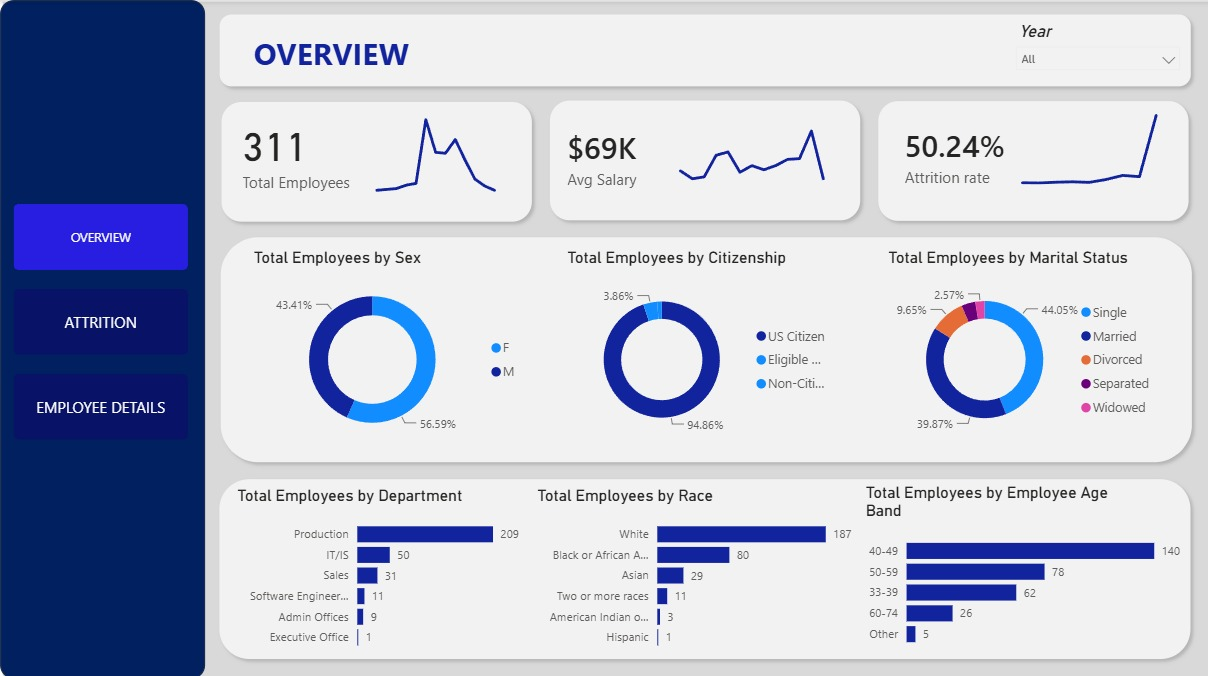

The page's visual inventory and layout, read from the dashboard file:
{"tool":"powerbi","page":{"name":"OVERVIEW","canvas":[1280,720],"ordinal":0},"visuals":[{"type":"cardVisual","fields":{"Data":["_measures.Total Employees"]},"box":[240.2,127.2,151.1,81.1],"z":0},{"type":"lineChart","fields":{"Y":["_measures.Total Employees"],"Category":["Date Table.Year"]},"box":[373.8,97,186.1,111.3],"z":1000},{"type":"cardVisual","fields":{"Data":["_measures.Avg Salary"]},"box":[596.5,114.5,192.5,108.2],"z":2000},{"type":"lineChart","fields":{"Y":["_measures.Avg Salary"],"Category":["Date Table.Year"]},"box":[693.5,103.4,219.5,111.3],"z":3000},{"type":"cardVisual","fields":{"Data":["_measures.Attrition rate"]},"box":[954.4,105,154.3,125.7],"z":4000},{"type":"donutChart","fields":{"Y":["_measures.Total Employees"],"Category":["HRDataset.Sex"]},"box":[264,262.5,295.9,216.3],"z":5000},{"type":"donutChart","fields":{"Y":["_measures.Total Employees"],"Category":["HRDataset.CitizenDesc"]},"box":[596.5,262.5,295.9,216.3],"z":6000},{"type":"donutChart","fields":{"Y":["_measures.Total Employees"],"Category":["HRDataset.MaritalDesc"]},"box":[936.9,262.5,295.9,216.3],"z":7000},{"type":"barChart","fields":{"Y":["_measures.Total Employees"],"Category":["HRDataset.Department"]},"box":[246.5,515.4,343.6,182.9],"z":8000},{"type":"barChart","fields":{"Y":["_measures.Total Employees"],"Category":["HRDataset.RaceDesc"]},"box":[564.7,515.4,343.6,182.9],"z":9000},{"type":"barChart","fields":{"Y":["_measures.Total Employees"],"Category":["HRDataset.Employee Age Band"]},"box":[913,512.2,343.6,182.9],"z":10000},{"type":"slicer","fields":{"Values":["Date Table.Year"]},"box":[1067.3,17.5,194.1,84.3],"z":11000},{"type":"textbox","box":[264,28.6,326.1,52.5],"z":12000},{"type":"lineChart","fields":{"Y":["_measures.Attrition rate"],"Category":["Date Table.Year"]},"box":[1068.9,97,171.8,103.4],"z":13000},{"type":"pageNavigator","box":[14.1,215.6,185.6,252.7],"z":14000}]}

Visuals, with their boxes in screenshot pixels (x1, y1, x2, y2), scaled from the page's 1280x720 canvas onto the 1208x676 screenshot:
cardVisual - _measures.Total Employees: (x1=227, y1=119, x2=369, y2=196)
lineChart - _measures.Total Employees x Date Table.Year: (x1=353, y1=91, x2=528, y2=196)
cardVisual - _measures.Avg Salary: (x1=563, y1=108, x2=745, y2=209)
lineChart - _measures.Avg Salary x Date Table.Year: (x1=654, y1=97, x2=862, y2=202)
cardVisual - _measures.Attrition rate: (x1=901, y1=99, x2=1046, y2=217)
donutChart - _measures.Total Employees x HRDataset.Sex: (x1=249, y1=246, x2=528, y2=450)
donutChart - _measures.Total Employees x HRDataset.CitizenDesc: (x1=563, y1=246, x2=842, y2=450)
donutChart - _measures.Total Employees x HRDataset.MaritalDesc: (x1=884, y1=246, x2=1163, y2=450)
barChart - _measures.Total Employees x HRDataset.Department: (x1=233, y1=484, x2=557, y2=656)
barChart - _measures.Total Employees x HRDataset.RaceDesc: (x1=533, y1=484, x2=857, y2=656)
barChart - _measures.Total Employees x HRDataset.Employee Age Band: (x1=862, y1=481, x2=1186, y2=653)
slicer - Date Table.Year: (x1=1007, y1=16, x2=1190, y2=96)
textbox: (x1=249, y1=27, x2=557, y2=76)
lineChart - _measures.Attrition rate x Date Table.Year: (x1=1009, y1=91, x2=1171, y2=188)
pageNavigator: (x1=13, y1=202, x2=188, y2=440)
